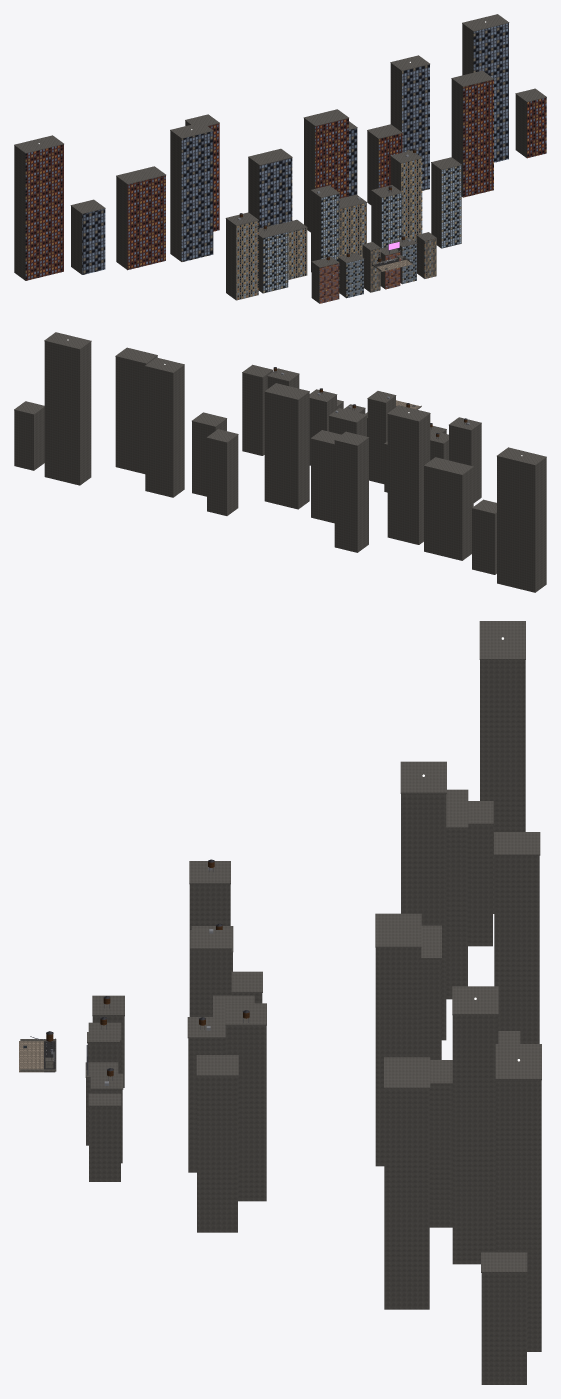
The model's file is stage1.glb.
The picture shows the model from 3 angles, top to bottom: view 1: azimuth 30°, elevation 25°; view 2: azimuth 150°, elevation 25°; view 3: azimuth 270°, elevation 25°; orthographic projection. The views are drawn at different scales.
Visible parts, largest first — view 1: Scenery; view 2: Scenery; view 3: Scenery.
Part boxes in pixels (x1,y1,x2,y2): Scenery: [14, 14, 546, 303]; Scenery: [14, 332, 546, 592]; Scenery: [19, 621, 541, 1384].
Size of the model in its own units: 530 by 134 by 230.
18 materials, 13 textured.
